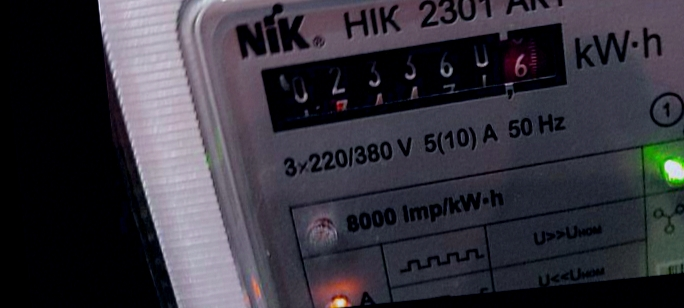0: (287, 71, 313, 107), (468, 39, 493, 72)
2: (326, 62, 349, 97)
3: (399, 48, 421, 83), (361, 58, 383, 90)
6: (434, 46, 458, 81), (509, 48, 533, 83)
screen: (242, 12, 588, 141)
